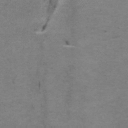finishing roll printing: (40, 0, 58, 32)
